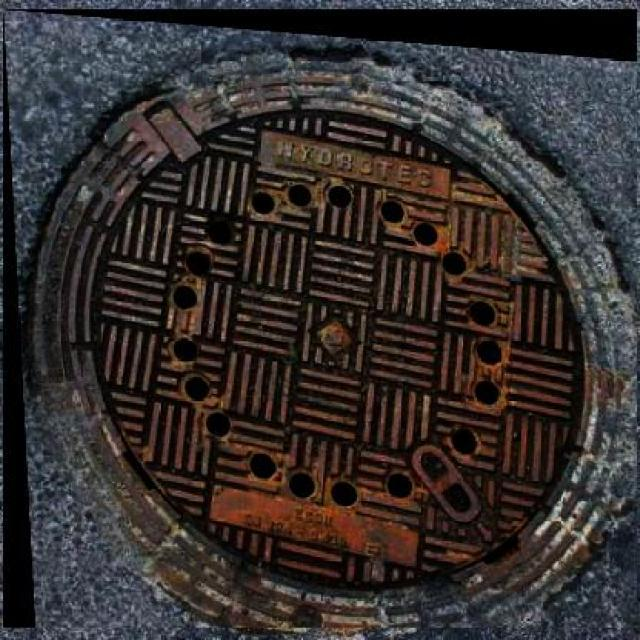Manhole: (4, 9, 638, 628)
